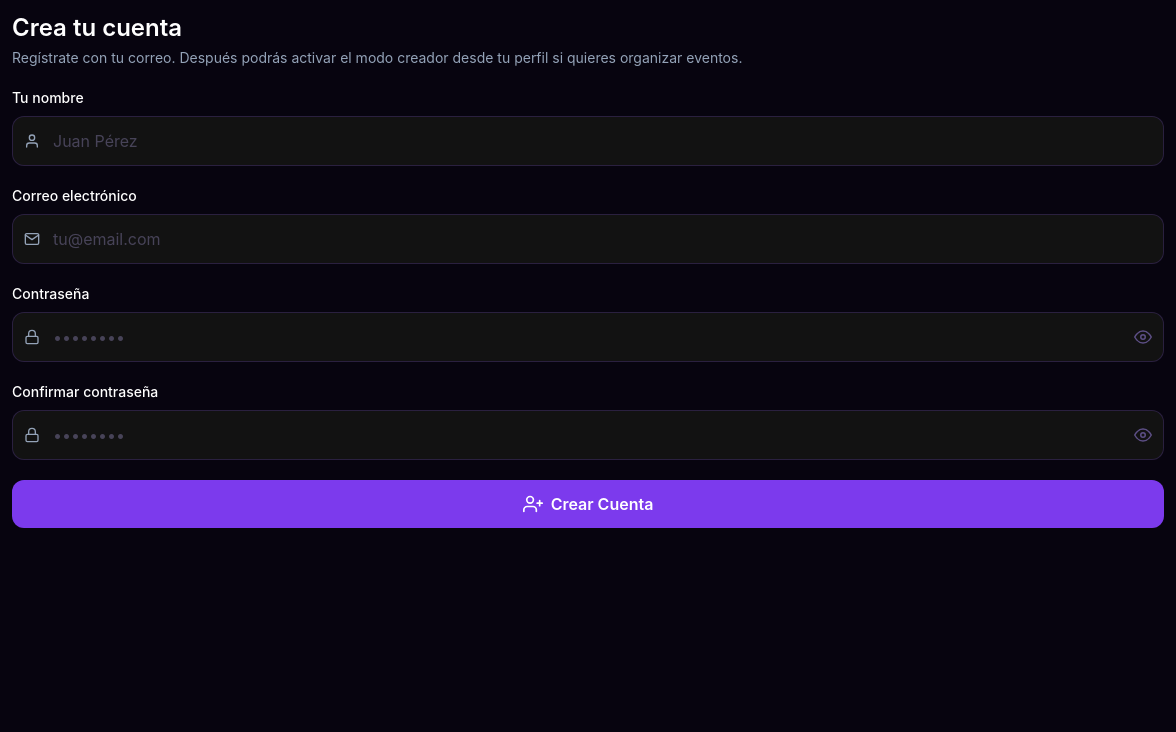
SignUpForm › error de registro › muestra el error si register rechaza la promesa
Type "Carlos Test" into the field with placeholder "Juan Pérez" at (588, 141), box [12,116,1164,166]
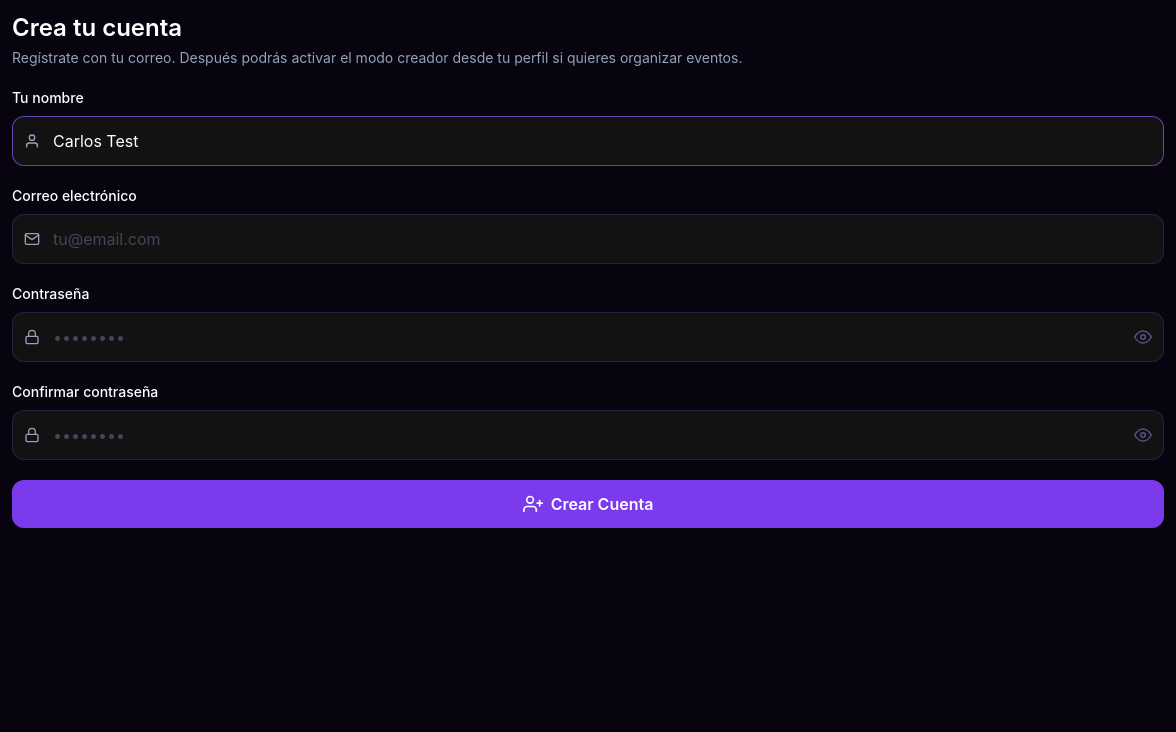
Type "carlos@emeet.com" into the field with placeholder "tu@email.com" at (588, 239), box [12,214,1164,264]
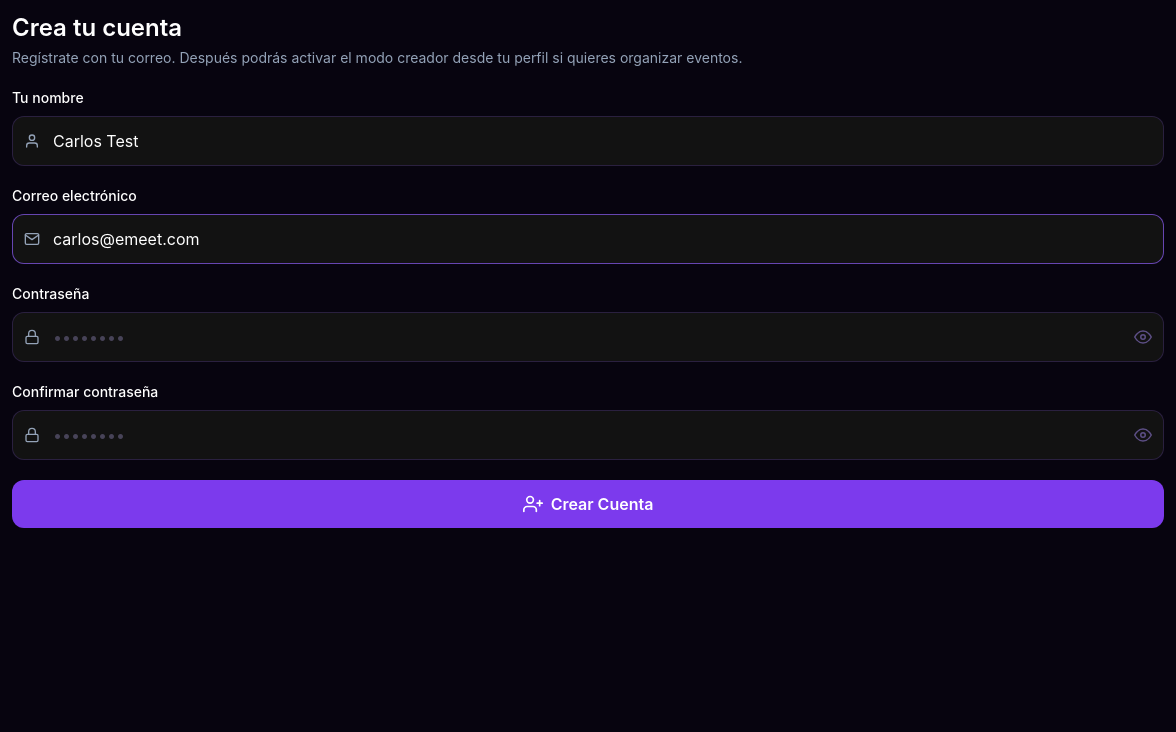
Type "Abc123!!" into the password field labelled "Contraseña" at (588, 337), box [12,312,1164,362]
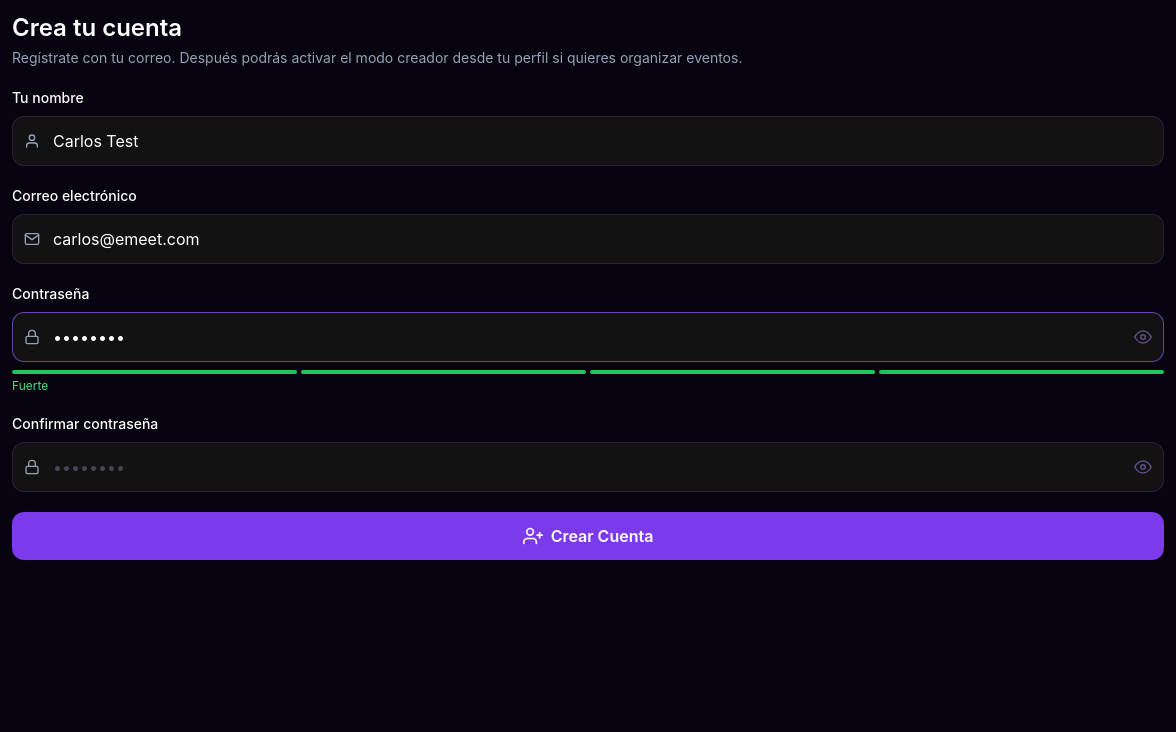
Type "Abc123!!" into the password field labelled "Confirmar contraseña" at (588, 467), box [12,442,1164,492]
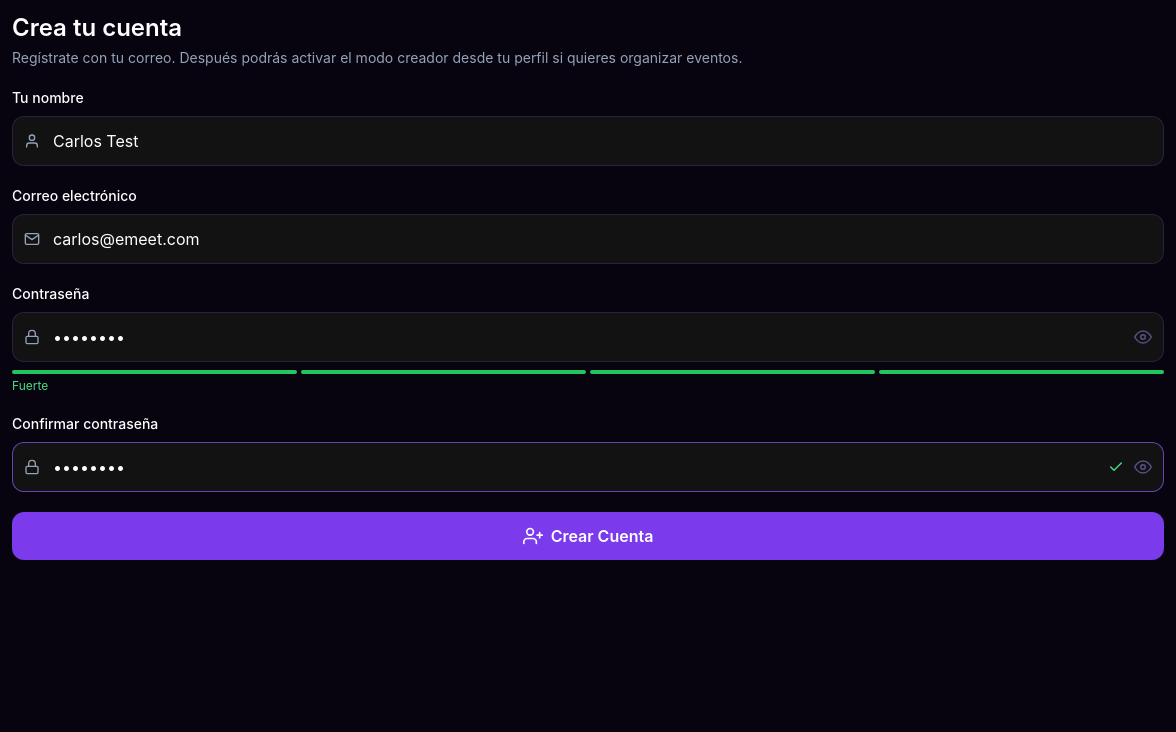
Click the button "Crear Cuenta" at (588, 536), box [12,512,1164,560]
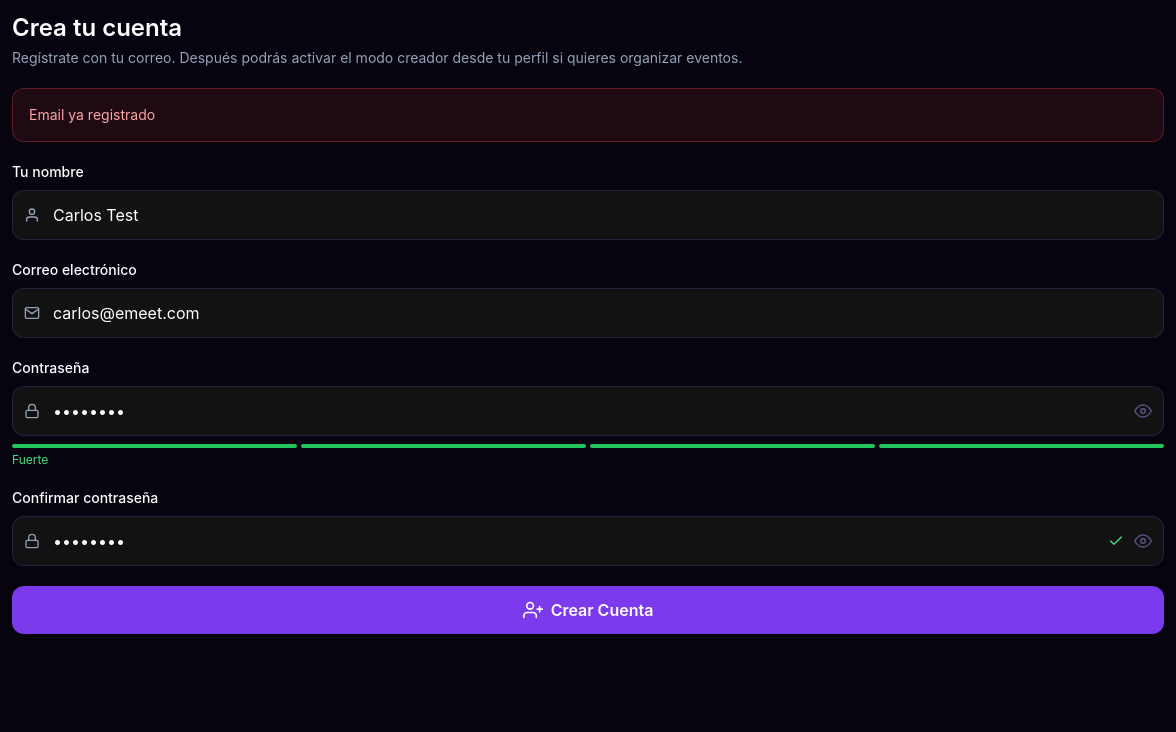
Expected: the text "Email ya registrado" is shown, [12,88,1164,142]
